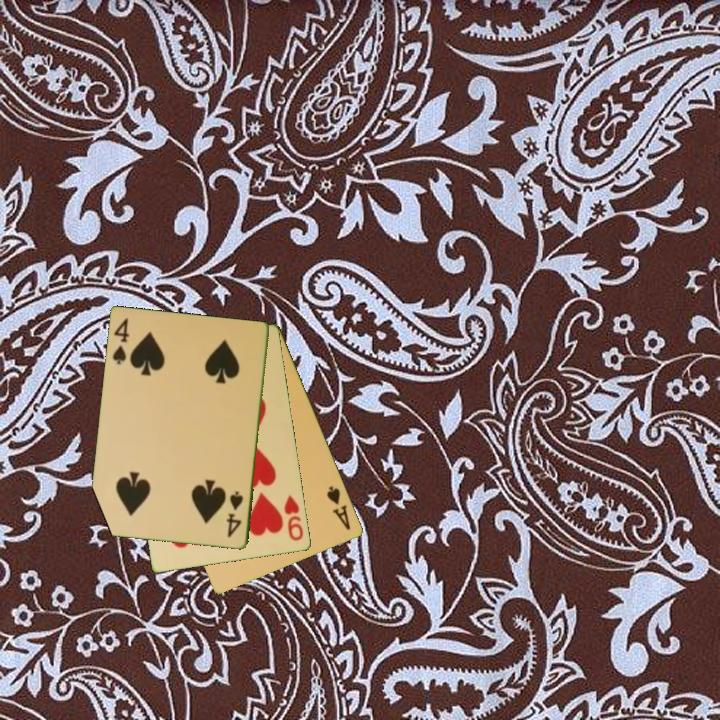4s: (109, 315, 132, 367), (224, 488, 246, 541)
9h: (281, 491, 306, 544)
As: (323, 483, 354, 533)
